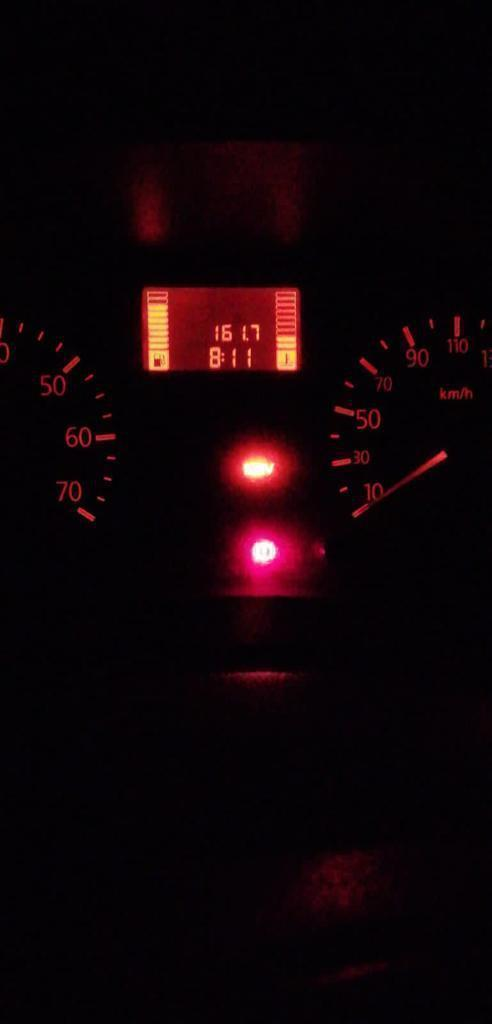,: (246, 336, 249, 342)
1: (230, 346, 238, 368), (246, 345, 253, 369), (213, 323, 219, 341), (241, 322, 246, 343)
6: (221, 322, 232, 342)
7: (250, 322, 260, 340)
8: (209, 345, 220, 369)
X: (221, 351, 225, 363)
odometer: (140, 285, 304, 375)
